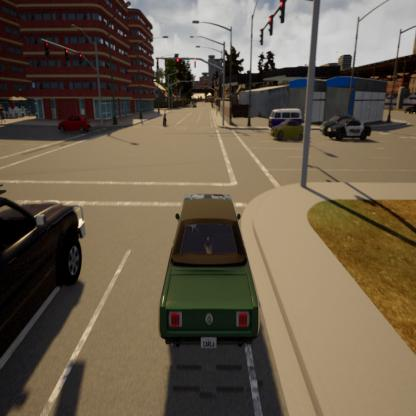Cars: (160, 192, 260, 348), (0, 194, 85, 356), (327, 118, 372, 141), (271, 119, 304, 143), (270, 108, 304, 128), (59, 113, 91, 134), (321, 114, 353, 134), (162, 108, 167, 126)
Pedestrian: (0, 99, 6, 125)
